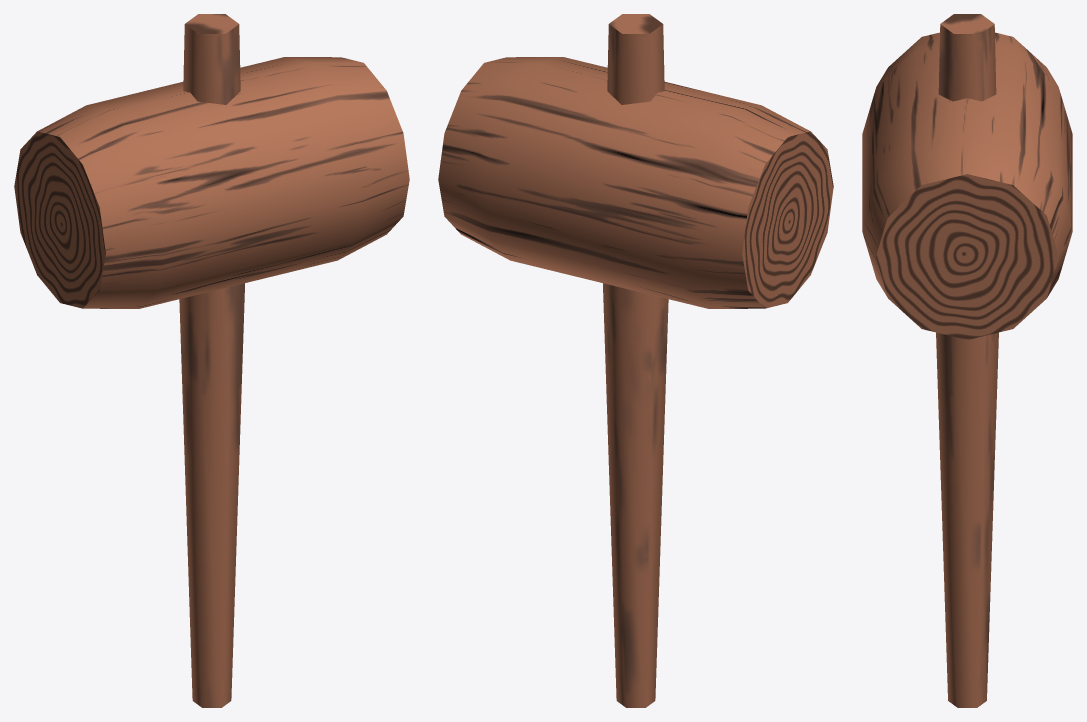
The model's file is Mesh_WoodHammerWeapon.fbx.
3 renders of one model, left to right at view 1: azimuth 30°, elevation 25°; view 2: azimuth 150°, elevation 25°; view 3: azimuth 270°, elevation 25°, orthographic.
Parts seen in each view (by area): view 1: WoodHammerWeapon; view 2: WoodHammerWeapon; view 3: WoodHammerWeapon.
Boxes of the visible parts, <box> form: WoodHammerWeapon: <box>14,14,409,707</box>; WoodHammerWeapon: <box>438,14,833,707</box>; WoodHammerWeapon: <box>862,14,1072,707</box>.
Bounding box in the file's own units: 200 × 426 × 120.
Materials: 1 (1 with a texture image).
